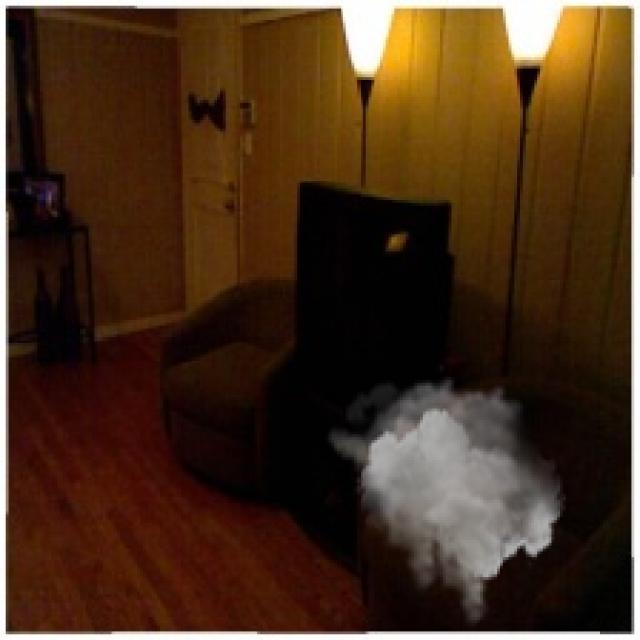Smoke: (326, 374, 566, 629)
